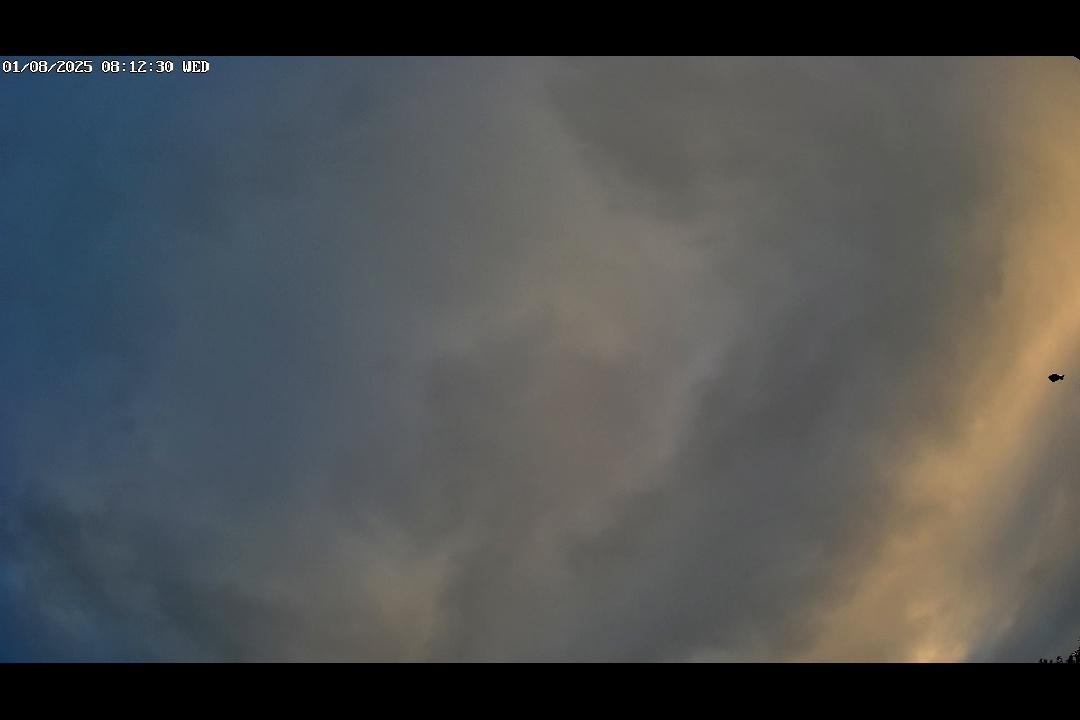WildLife: (1027, 358, 1078, 399)
